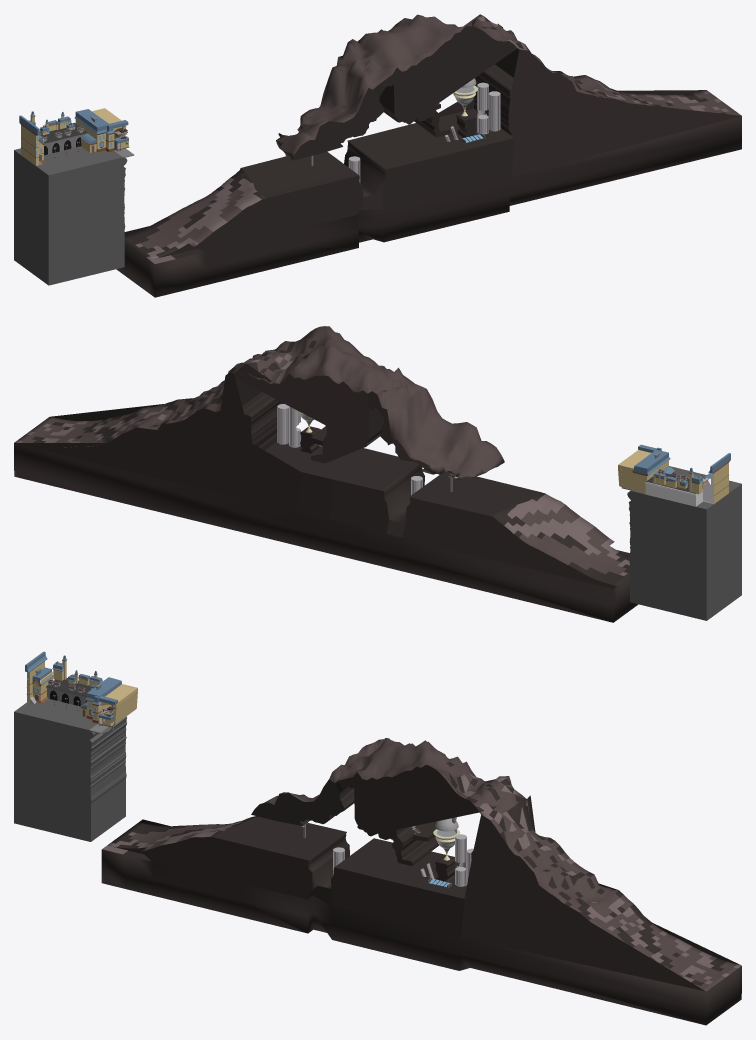
3 renders of one model, top to bottom at view 1: azimuth 30°, elevation 25°; view 2: azimuth 150°, elevation 25°; view 3: azimuth 330°, elevation 25°, orthographic.
Visible parts, largest first — view 1: Landscape.002, Plane.002, House, House.001, ponte, colunas, colunas.004; view 2: Landscape.002, Plane.002, House.001, House, ponte, Bck ground; view 3: Landscape.002, Plane.002, House.001, House, Cube.019, Bck ground, Cylinder.017, ponte.
Part boxes in pixels (x1,y1,x2,y2): Landscape.002: (116, 14, 741, 297); Plane.002: (14, 146, 127, 285); House: (74, 109, 114, 152); House.001: (19, 115, 45, 165); ponte: (39, 123, 87, 155); colunas: (477, 82, 488, 134); colunas.004: (488, 91, 500, 131); Landscape.002: (14, 326, 638, 622); Plane.002: (627, 466, 741, 620); House.001: (702, 453, 730, 504); House: (632, 447, 675, 492); ponte: (645, 473, 702, 506); Bck ground: (653, 467, 703, 494); Landscape.002: (101, 738, 741, 1025); Plane.002: (14, 698, 127, 841); House.001: (25, 651, 53, 703); House: (81, 677, 121, 723); Cube.019: (101, 685, 137, 724); Bck ground: (52, 655, 102, 689); Cylinder.017: (433, 817, 460, 854); ponte: (46, 678, 90, 706).
Bounding box in the file's own units: 755 × 202 × 86.26.
